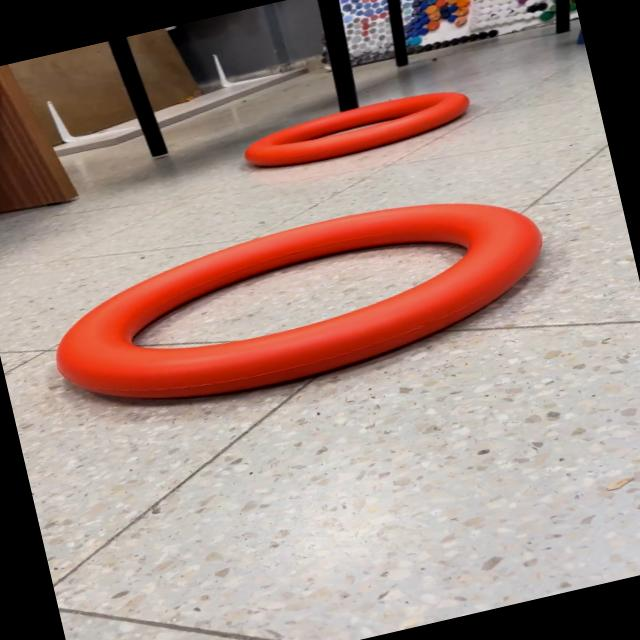note: (35, 170, 564, 434), (235, 80, 477, 180)
